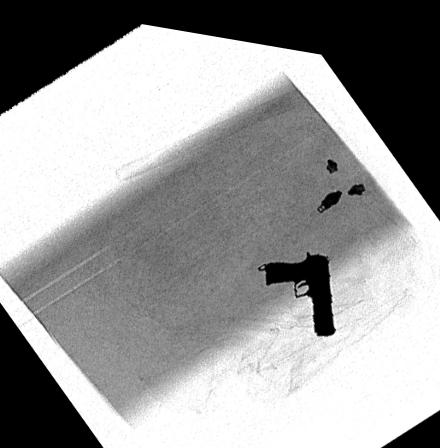Gun: (263, 236, 337, 324)
